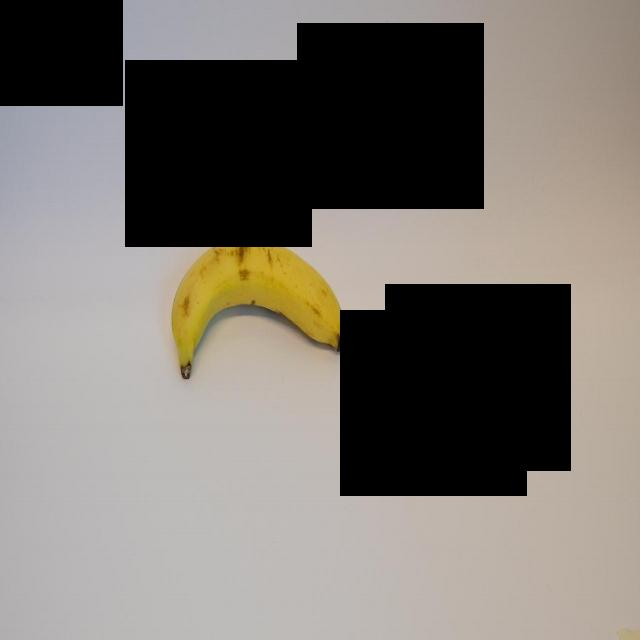banana: (171, 224, 355, 375)
